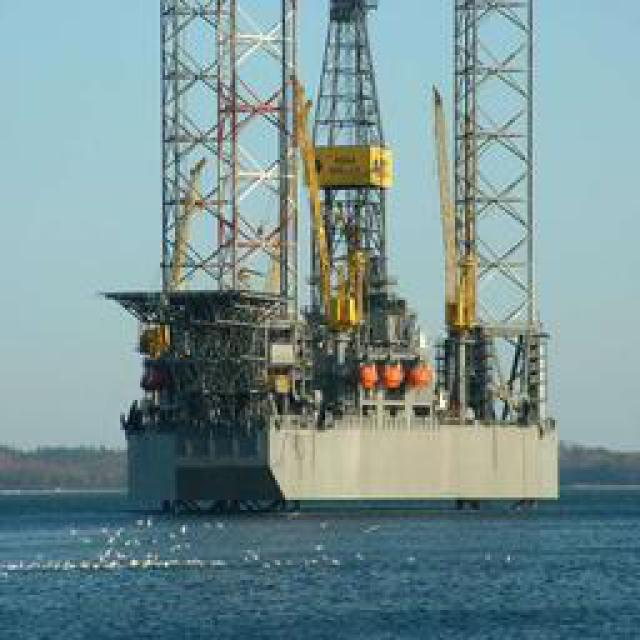Ship: (106, 47, 604, 527)
